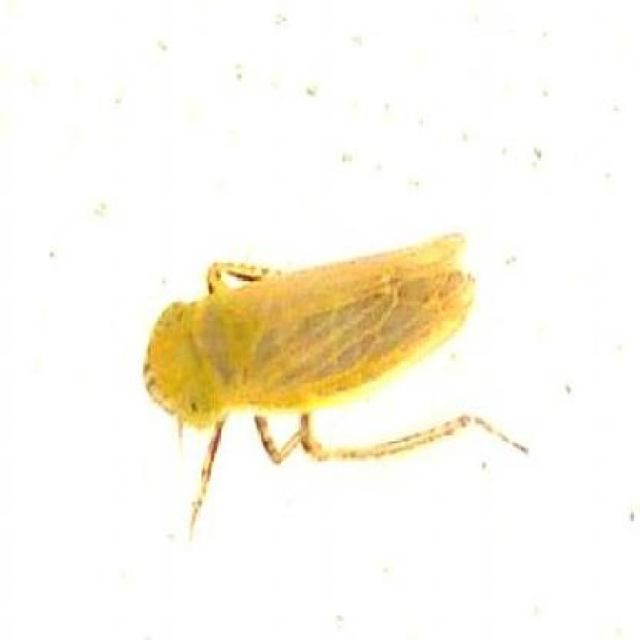green-leafhopper: (146, 204, 523, 519)
